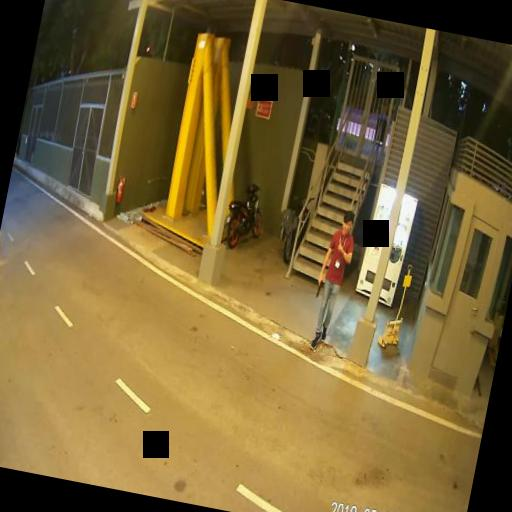Handgun: (312, 273, 322, 297)
